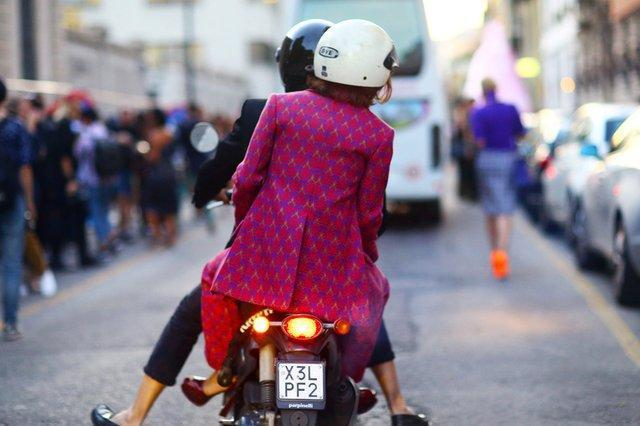helmet: (313, 21, 399, 87), (276, 21, 334, 84)
